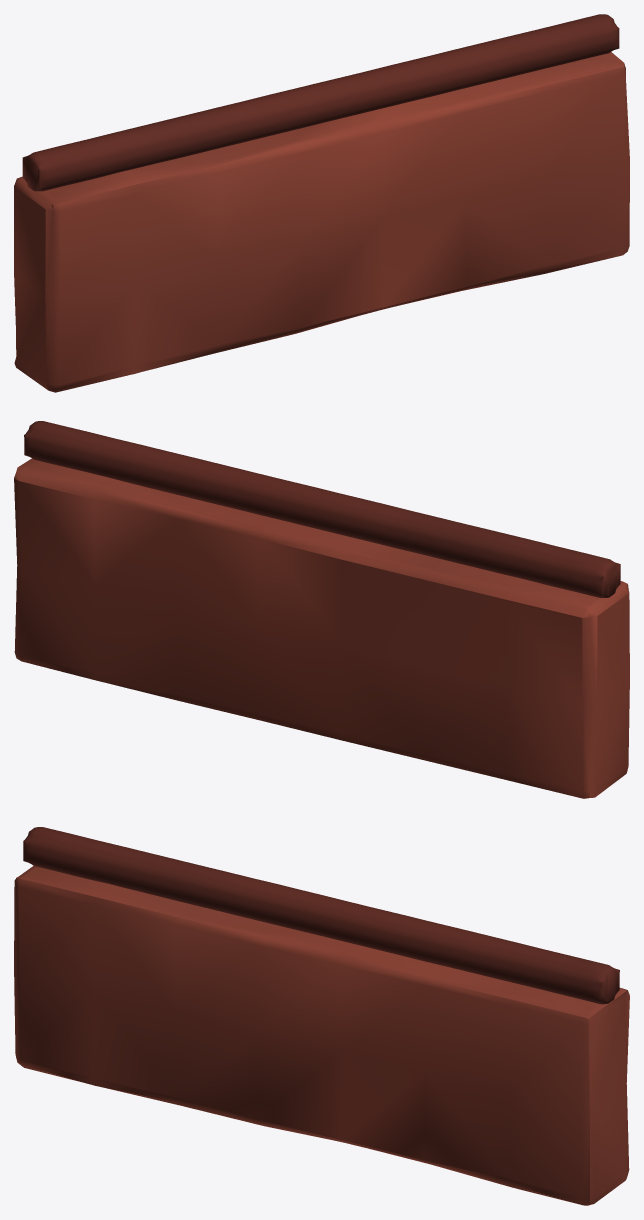
Rendered from den_bed_rail_x_lod1.glb.
The picture shows the model from 3 angles, top to bottom: view 1: azimuth 30°, elevation 25°; view 2: azimuth 150°, elevation 25°; view 3: azimuth 330°, elevation 25°; orthographic projection.
Parts seen in each view (by area): view 1: den_bed_rail_x.001; view 2: den_bed_rail_x.001; view 3: den_bed_rail_x.001.
Part boxes in pixels (x1,y1,x2,y2): den_bed_rail_x.001: [14, 14, 629, 392]; den_bed_rail_x.001: [14, 421, 629, 798]; den_bed_rail_x.001: [14, 827, 629, 1205].
Size of the model in its own units: 24.12 by 9.02 by 3.18.
